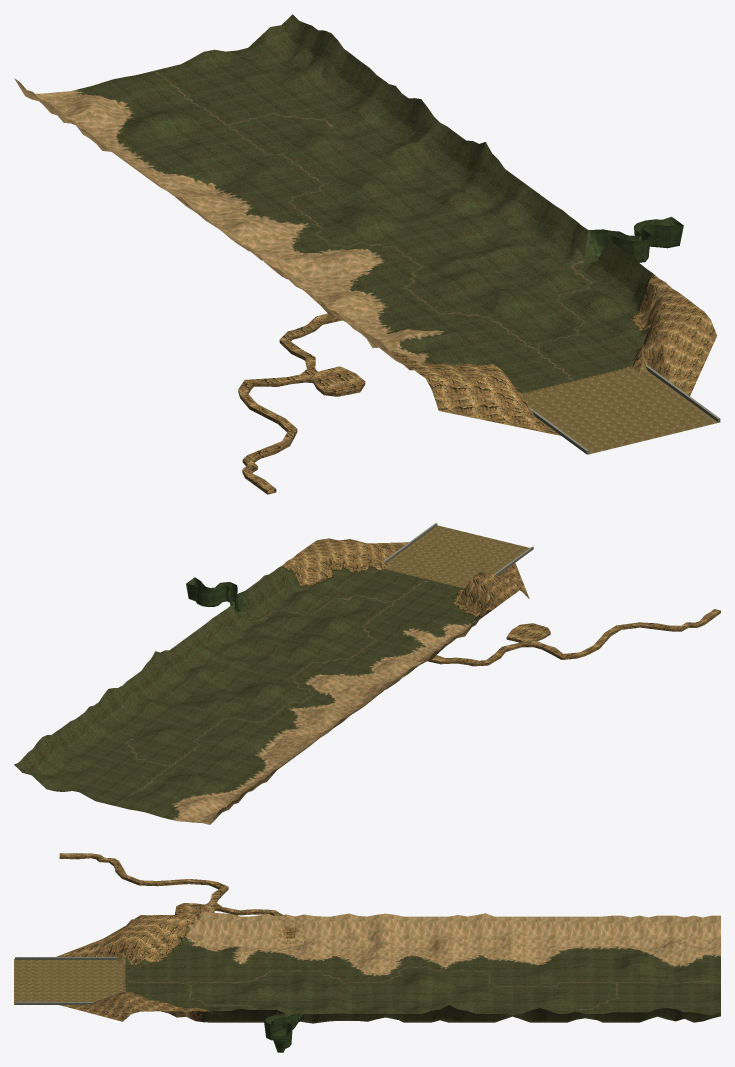
File: ecommonstest.fbx
The picture shows the model from 3 angles, top to bottom: view 1: azimuth 30°, elevation 25°; view 2: azimuth 150°, elevation 25°; view 3: azimuth 270°, elevation 25°; orthographic projection. The views are drawn at different scales.
Visible parts, largest first — view 1: polySurface9047, polySurface9055, westfreeportflats, polySurface459, polySurface8754, polySurface9542, polySurface8602, polySurface9545, polySurface1002; view 2: polySurface9047, polySurface9055, westfreeportflats, polySurface459, polySurface8754, polySurface9542, polySurface8602, polySurface9545; view 3: polySurface9047, polySurface9055, westfreeportflats, polySurface8754, polySurface459, polySurface9542, polySurface8602, polySurface3240, polySurface9545, polySurface1002.
Boxes of the visible parts, box(x1,y1,x2,y2) form: polySurface9047: box(81, 14, 652, 386); polySurface9055: box(14, 78, 424, 369); westfreeportflats: box(520, 368, 720, 454); polySurface459: box(633, 279, 717, 395); polySurface8754: box(387, 350, 560, 435); polySurface9542: box(238, 313, 364, 491); polySurface8602: box(588, 216, 683, 262); polySurface9545: box(238, 317, 365, 494); polySurface1002: box(148, 69, 229, 123); polySurface9047: box(14, 568, 475, 819); polySurface9055: box(176, 611, 486, 824); westfreeportflats: box(387, 525, 529, 587); polySurface459: box(283, 538, 408, 585); polySurface8754: box(454, 563, 529, 613); polySurface9542: box(432, 609, 720, 663); polySurface8602: box(186, 577, 244, 613); polySurface9545: box(427, 611, 720, 666); polySurface9047: box(131, 946, 720, 1023); polySurface9055: box(195, 911, 720, 972); westfreeportflats: box(14, 953, 122, 1004); polySurface8754: box(56, 915, 195, 961); polySurface459: box(59, 992, 204, 1021); polySurface9542: box(59, 853, 282, 916); polySurface8602: box(264, 1010, 303, 1052); polySurface3240: box(277, 914, 303, 946); polySurface9545: box(59, 856, 274, 915); polySurface1002: box(621, 978, 720, 985).
Bounding box in the file's own units: 5086 × 382 × 7801.
